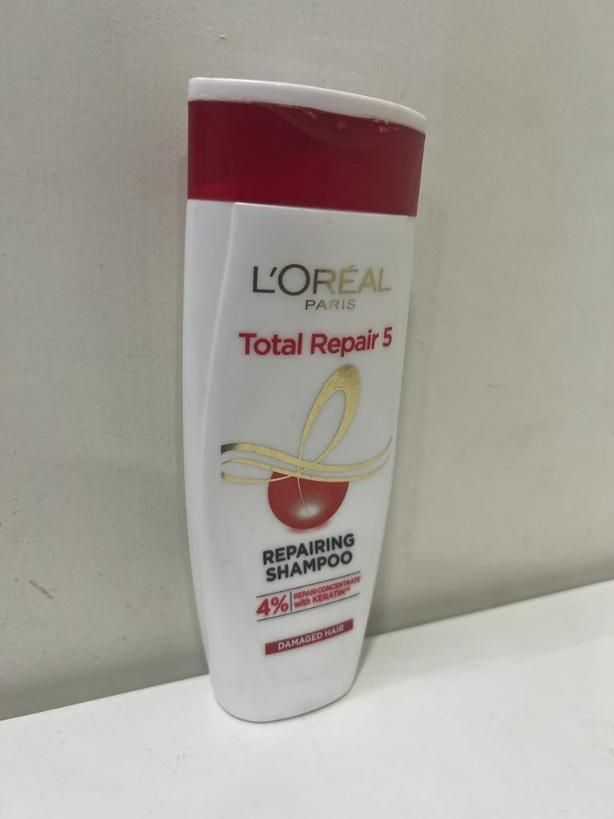Loreal: (184, 76, 430, 718)
